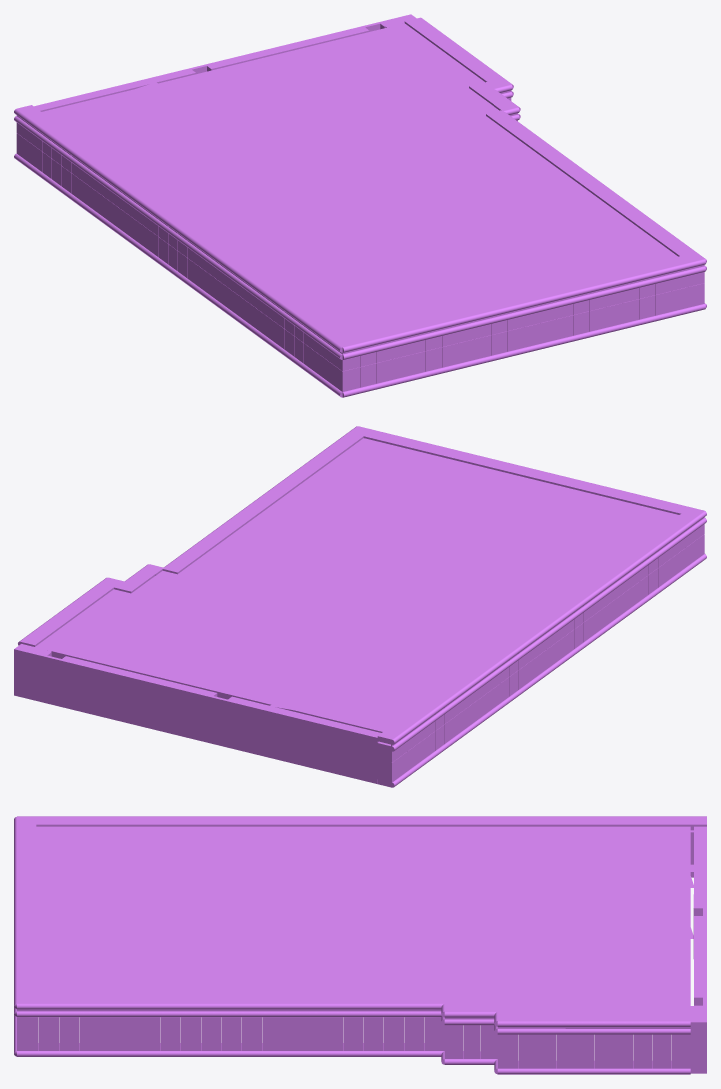
The model's file is XU_top.fbx.
3 renders of one model, top to bottom at view 1: azimuth 30°, elevation 25°; view 2: azimuth 150°, elevation 25°; view 3: azimuth 270°, elevation 25°, orthographic. The views are drawn at different scales.
Parts seen in each view (by area): view 1: 物件_11; view 2: 物件_11; view 3: 物件_11.
Part boxes in pixels (<box>): 物件_11: <box>14,14,706,397</box>; 物件_11: <box>14,426,706,787</box>; 物件_11: <box>14,816,706,1074</box>.
Size of the model in its own units: 119 by 14.18 by 168.
